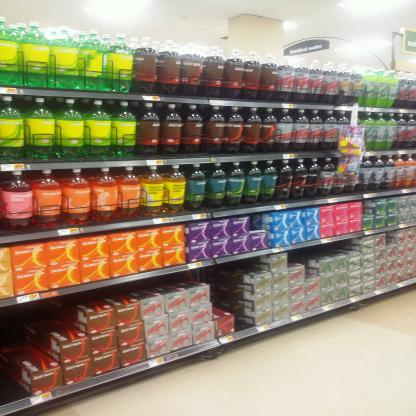Void: (3, 308, 37, 353), (210, 268, 244, 312)
